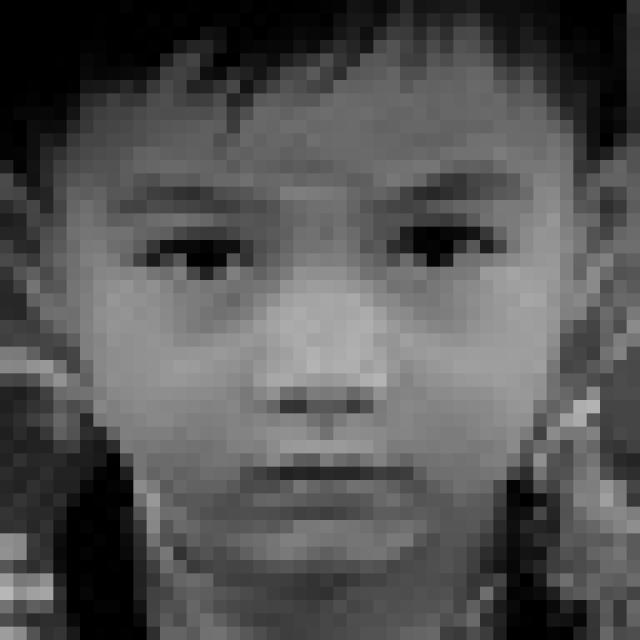neutral: (112, 164, 539, 527)
